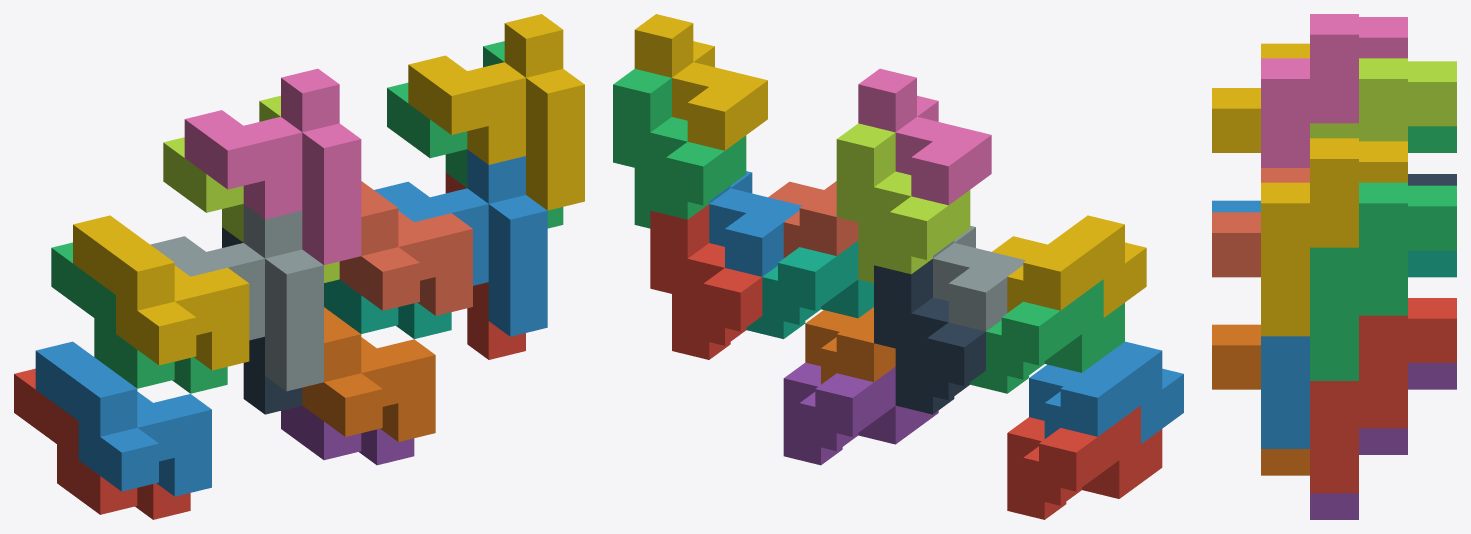
File: tiling.obj
The picture shows the model from 3 angles, left to right: view 1: azimuth 30°, elevation 25°; view 2: azimuth 150°, elevation 25°; view 3: azimuth 270°, elevation 25°; orthographic projection. The views are drawn at different scales.
Parts seen in each view (by area): view 1: copy_2_domain_4, copy_2_domain_8, copy_1_domain_4, copy_1_domain_2, copy_2_domain_6, copy_2_domain_2, copy_1_domain_8, copy_1_domain_6, copy_1_domain_3, copy_1_domain_1, copy_2_domain_7, copy_2_domain_3 (+4 smaller); view 2: copy_2_domain_3, copy_2_domain_7, copy_1_domain_1, copy_2_domain_5, copy_2_domain_1, copy_1_domain_2, copy_2_domain_4, copy_2_domain_8, copy_1_domain_4, copy_1_domain_5, copy_1_domain_3, copy_1_domain_7 (+4 smaller); view 3: copy_2_domain_7, copy_2_domain_8, copy_2_domain_5, copy_2_domain_4, copy_2_domain_3, copy_2_domain_6, copy_1_domain_6, copy_1_domain_4, copy_1_domain_5, copy_1_domain_8, copy_1_domain_7, copy_1_domain_3 (+2 smaller).
Boxes of the visible parts, <box> form: copy_2_domain_4: <box>184,68,361,264</box>; copy_2_domain_8: <box>408,14,584,210</box>; copy_1_domain_4: <box>73,215,249,370</box>; copy_1_domain_2: <box>35,341,211,496</box>; copy_2_domain_6: <box>374,149,547,336</box>; copy_2_domain_2: <box>150,204,323,391</box>; copy_1_domain_8: <box>339,181,472,315</box>; copy_1_domain_6: <box>302,307,435,441</box>; copy_1_domain_3: <box>51,242,227,393</box>; copy_1_domain_1: <box>14,368,190,519</box>; copy_2_domain_7: <box>387,41,563,228</box>; copy_2_domain_3: <box>163,95,339,282</box>; copy_2_domain_3: <box>836,123,970,282</box>; copy_2_domain_7: <box>613,69,746,228</box>; copy_1_domain_1: <box>1007,405,1162,519</box>; copy_2_domain_5: <box>650,204,762,359</box>; copy_2_domain_1: <box>874,259,985,414</box>; copy_1_domain_2: <box>1029,341,1183,443</box>; copy_2_domain_4: <box>858,68,991,205</box>; copy_2_domain_8: <box>634,14,767,150</box>; copy_1_domain_4: <box>992,215,1146,317</box>; copy_1_domain_5: <box>783,362,938,465</box>; copy_1_domain_3: <box>970,279,1124,393</box>; copy_1_domain_7: <box>746,241,873,339</box>; copy_2_domain_7: <box>1310,182,1456,380</box>; copy_2_domain_8: <box>1261,138,1407,336</box>; copy_2_domain_5: <box>1310,298,1456,493</box>; copy_2_domain_4: <box>1261,14,1407,167</box>; copy_2_domain_3: <box>1310,58,1456,141</box>; copy_2_domain_6: <box>1261,336,1309,448</box>; copy_1_domain_6: <box>1212,324,1309,475</box>; copy_1_domain_4: <box>1212,43,1309,152</box>; copy_1_domain_5: <box>1310,363,1456,519</box>; copy_1_domain_8: <box>1212,168,1309,277</box>; copy_1_domain_7: <box>1408,250,1456,277</box>; copy_1_domain_3: <box>1408,126,1456,152</box>.
Size of the model in its own units: 13 by 10 by 5.
